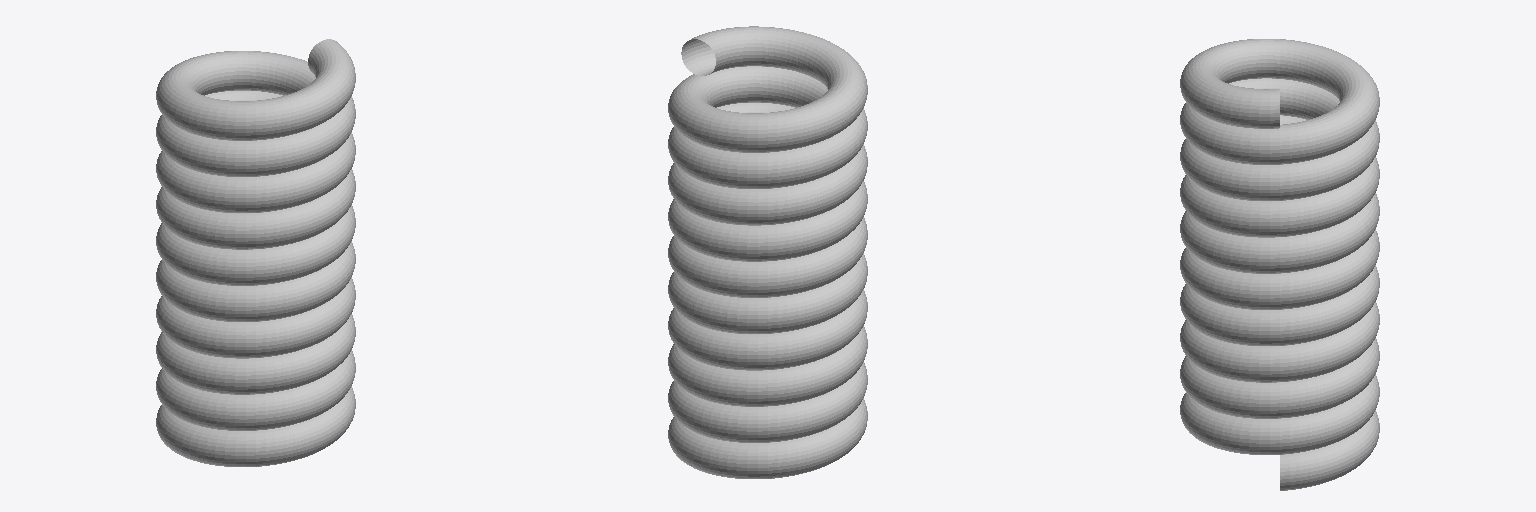
Rendered from spring.obj.
3 renders of one model, left to right at view 1: azimuth 30°, elevation 25°; view 2: azimuth 150°, elevation 25°; view 3: azimuth 270°, elevation 25°, orthographic.
Visible parts, largest first — view 1: Spring_Circle; view 2: Spring_Circle; view 3: Spring_Circle.
Part boxes in pixels (left/top/right/bottom): Spring_Circle: left=156, top=39, right=355, bottom=466; Spring_Circle: left=668, top=26, right=867, bottom=478; Spring_Circle: left=1180, top=39, right=1379, bottom=490.
Size of the model in its own units: 1 by 2.2 by 1.